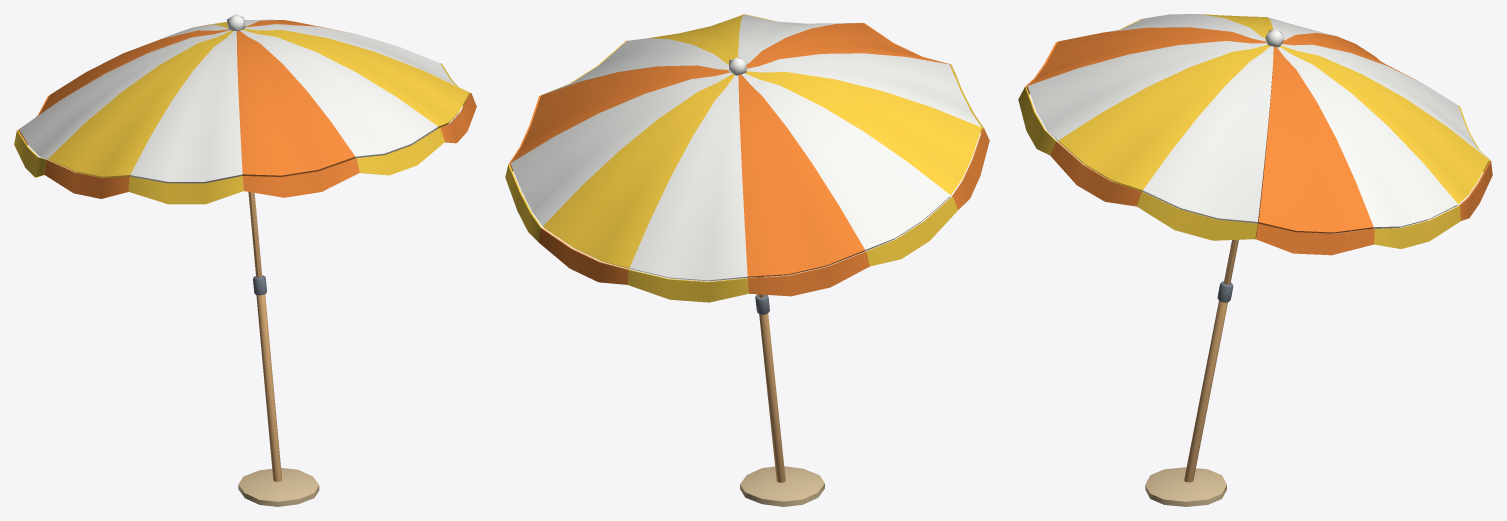
The model's file is guarda_sol_praia_laranja.glb.
3 renders of one model, left to right at view 1: azimuth 30°, elevation 25°; view 2: azimuth 150°, elevation 25°; view 3: azimuth 270°, elevation 25°, orthographic. The views are drawn at different scales.
Visible parts, largest first — view 1: guarda_sol_praia_laranja; view 2: guarda_sol_praia_laranja; view 3: guarda_sol_praia_laranja.
Boxes of the visible parts, left/top/right/bottom form: guarda_sol_praia_laranja: left=14, top=14, right=476, bottom=506; guarda_sol_praia_laranja: left=505, top=14, right=989, bottom=506; guarda_sol_praia_laranja: left=1018, top=14, right=1492, bottom=506.
Bounding box in the file's own units: 2.27 × 2.42 × 2.23.
1 material, 1 textured.
